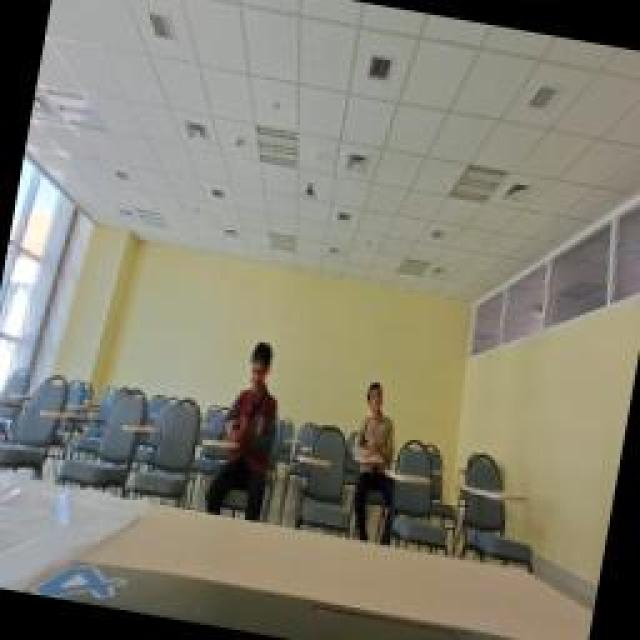phone: (215, 335, 290, 450)
study: (350, 380, 405, 465)
